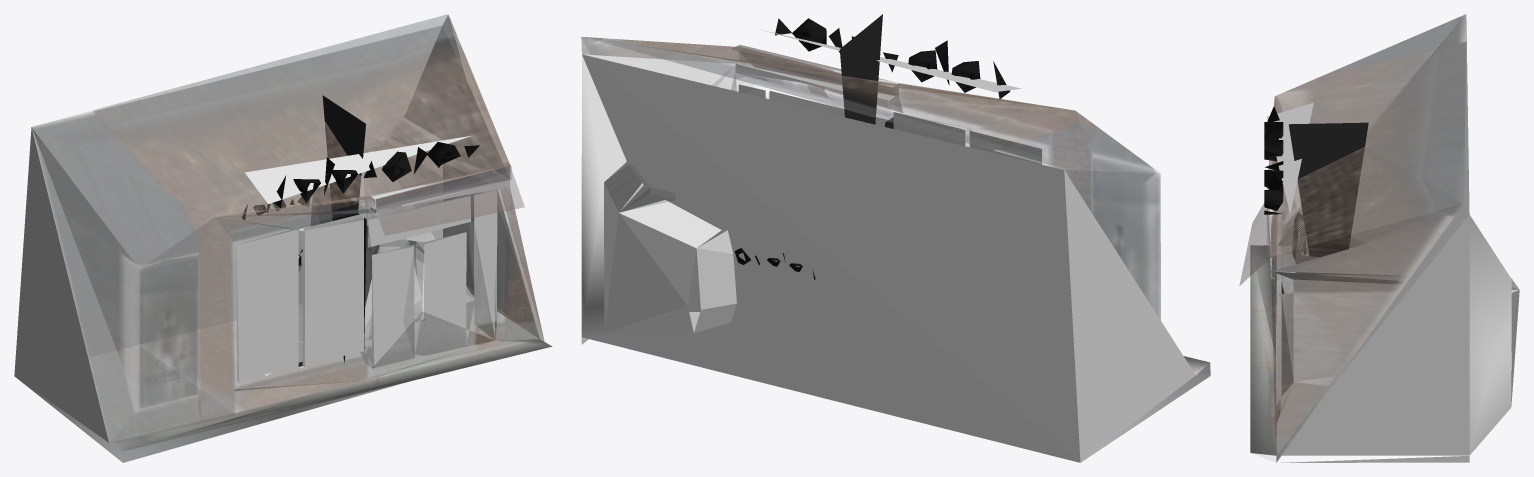
The model's file is brick_shopfront_lod1.glb.
The picture shows the model from 3 angles, left to right: view 1: azimuth 30°, elevation 25°; view 2: azimuth 150°, elevation 25°; view 3: azimuth 270°, elevation 25°; orthographic projection. The views are drawn at different scales.
Parts seen in each view (by area): view 1: brick_shopfront; view 2: brick_shopfront; view 3: brick_shopfront.
Part boxes in pixels (x1=…): brick_shopfront: x1=14, y1=14, x2=552, y2=462; brick_shopfront: x1=581, y1=14, x2=1210, y2=462; brick_shopfront: x1=1239, y1=14, x2=1519, y2=462.
Bounding box in the file's own units: 6.34 × 3.68 × 3.56.
Materials: 11 (5 with a texture image).
